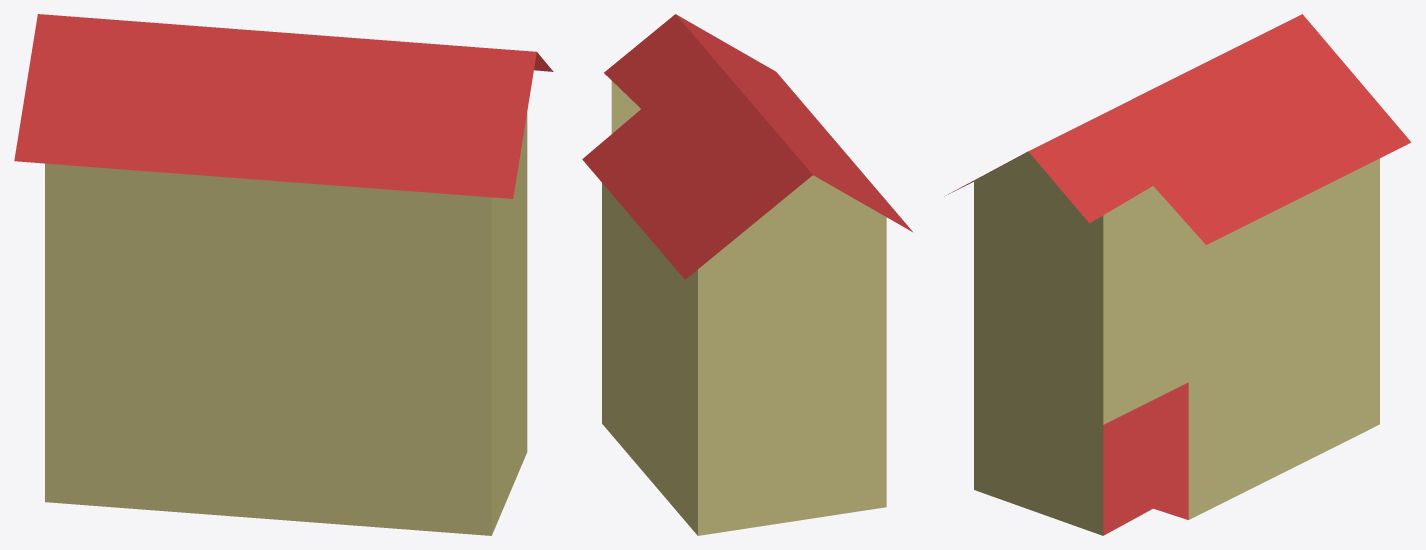
The picture shows the model from 3 angles, left to right: view 1: azimuth 30°, elevation 25°; view 2: azimuth 150°, elevation 25°; view 3: azimuth 270°, elevation 25°; orthographic projection. The views are drawn at different scales.
Size of the model in its own units: 10.06 by 10.51 by 9.15.
